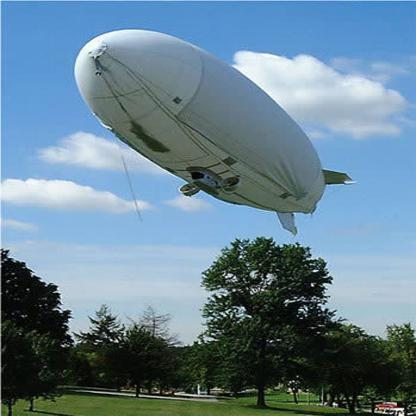Airship: (66, 27, 359, 241)
